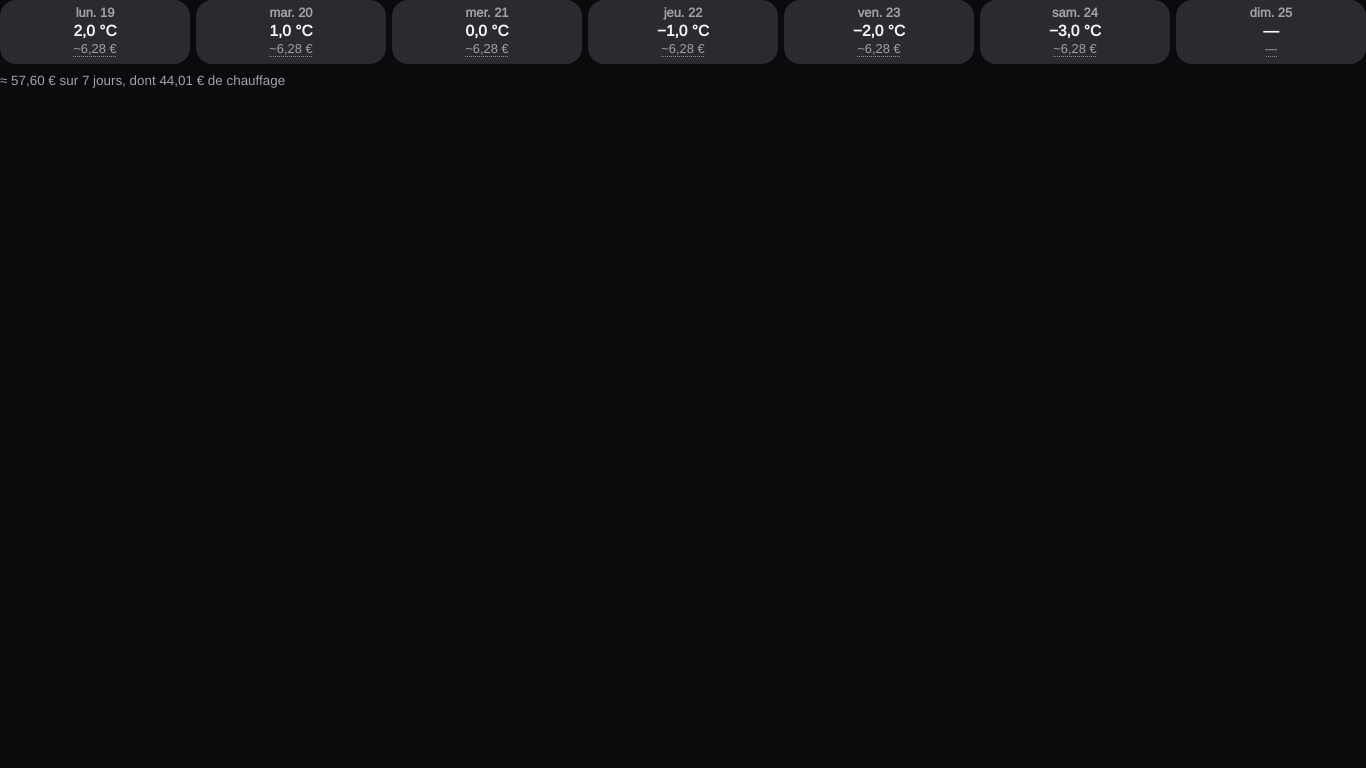
Test: ForecastStrip › an incomplete day reads « — » and its Fiche says why
Click the button "—" at (1271, 50), box x1=1264 y1=40 x2=1277 y2=59
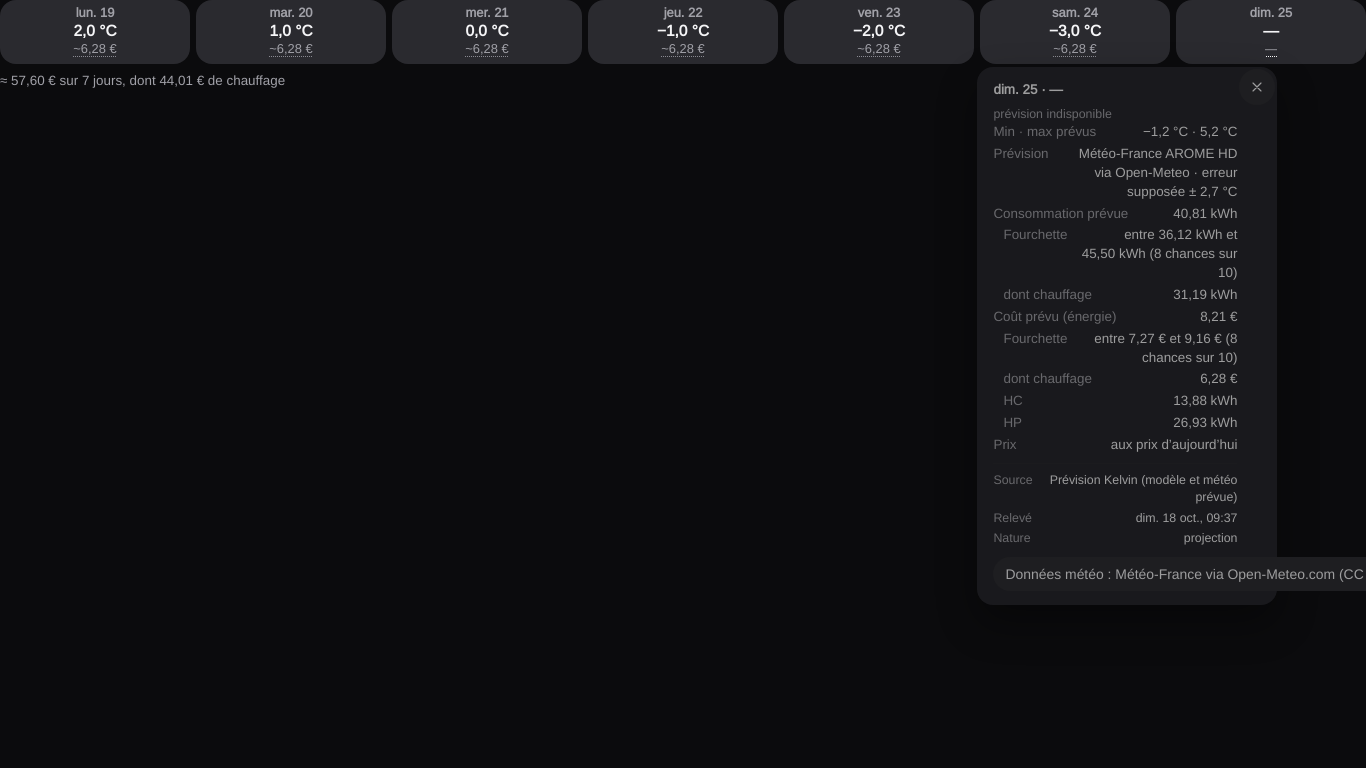
Now the text "prévision indisponible" is shown, box x1=993 y1=106 x2=1112 y2=122
